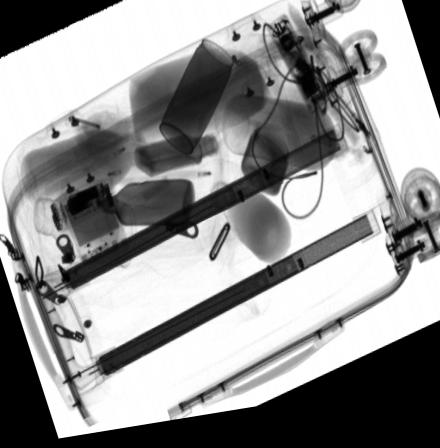Powerbank: (58, 181, 127, 268)
